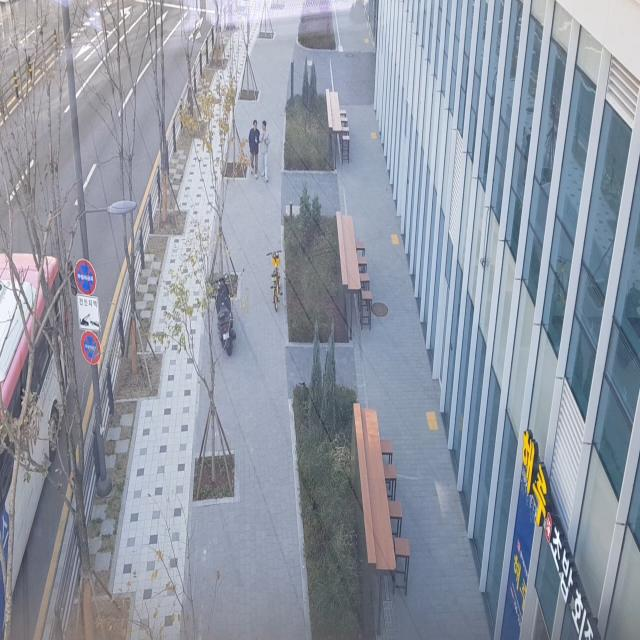Bus: (0, 205, 86, 640)
